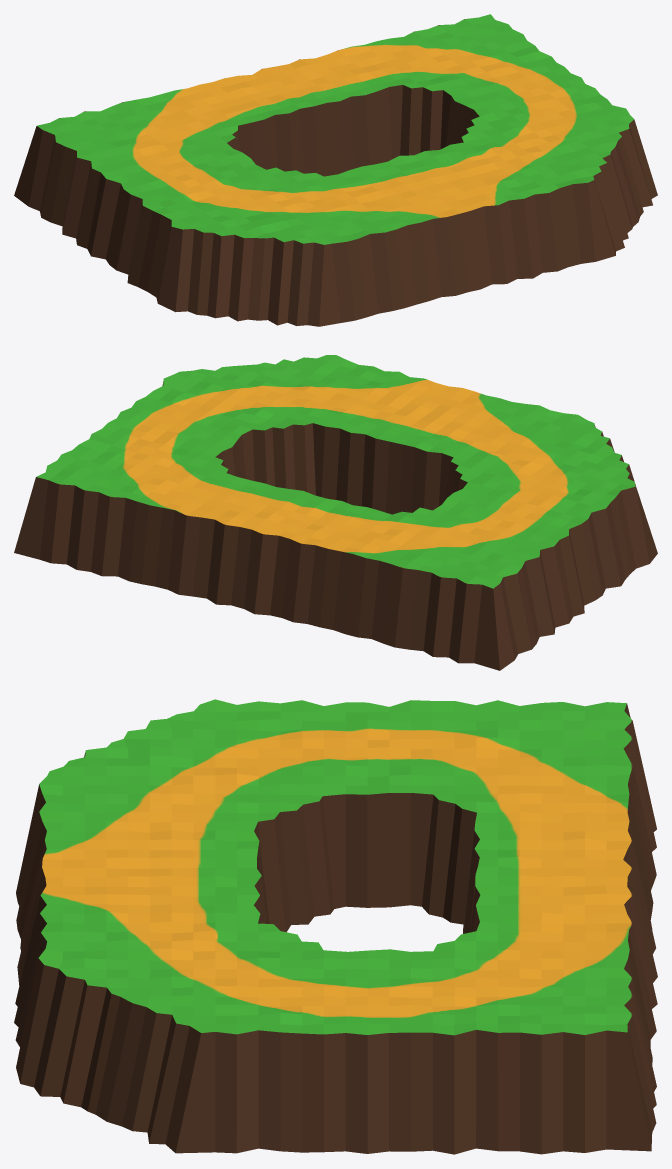
File: SectionThreeZero.FBX
3 renders of one model, top to bottom at view 1: azimuth 30°, elevation 25°; view 2: azimuth 150°, elevation 25°; view 3: azimuth 270°, elevation 25°, orthographic. The views are drawn at different scales.
Parts seen in each view (by area): view 1: SectionThree; view 2: SectionThree; view 3: SectionThree.
Boxes of the visible parts, x1,y1,x2,y2 form: SectionThree: [14, 14, 657, 326]; SectionThree: [14, 355, 657, 670]; SectionThree: [14, 699, 657, 1154].
Bounding box in the file's own units: 2680 × 394 × 2048.
Materials: 1 (1 with a texture image).
